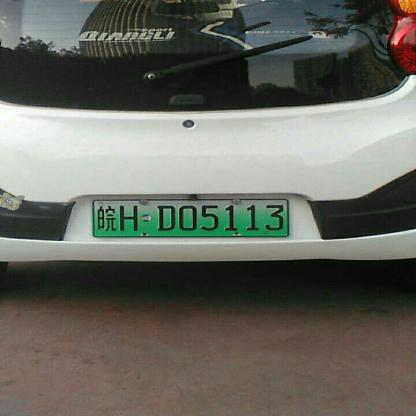lp: (93, 200, 288, 236)
